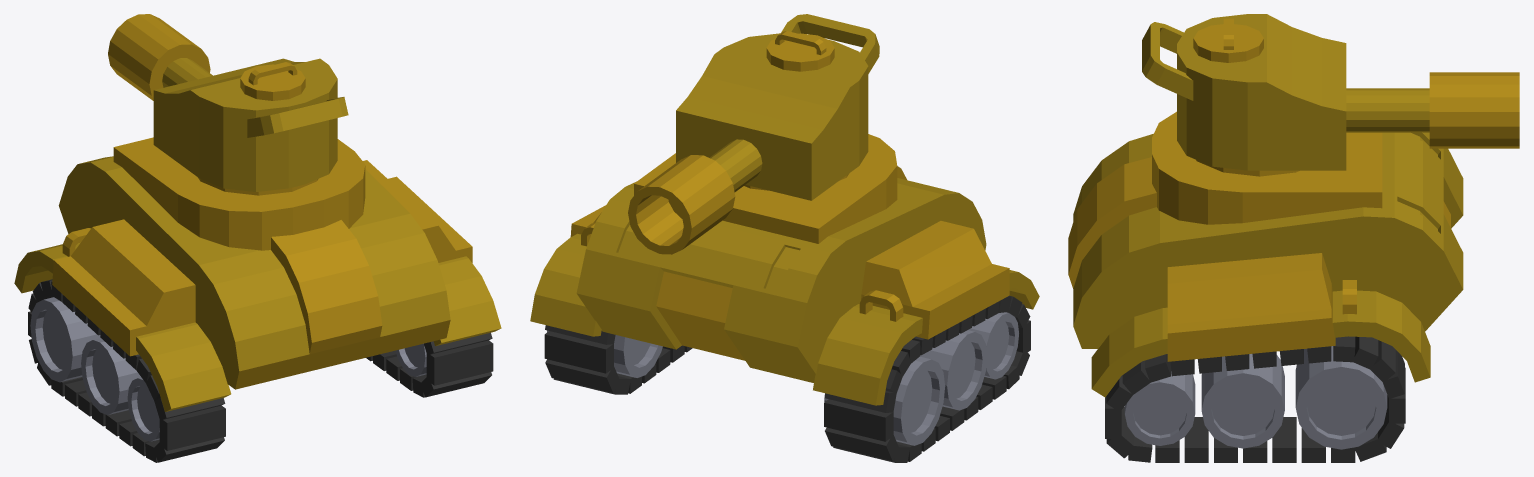
Rendered from tank_scout.glb.
3 views of the same model, side by side, from view 1: azimuth 30°, elevation 25°; view 2: azimuth 150°, elevation 25°; view 3: azimuth 270°, elevation 25° (orthographic). The views are drawn at different scales.
Parts seen in each view (by area): view 1: TankBody, TankTurret; view 2: TankBody, TankTurret; view 3: TankBody, TankTurret.
Part boxes in pixels (x1,y1,x2,y2): TankBody: [14, 147, 501, 462]; TankTurret: [108, 14, 365, 211]; TankBody: [530, 166, 1039, 462]; TankTurret: [628, 14, 897, 254]; TankBody: [1068, 132, 1463, 462]; TankTurret: [1142, 14, 1519, 192].
Size of the model in its own units: 2.4 by 2.17 by 2.53.
